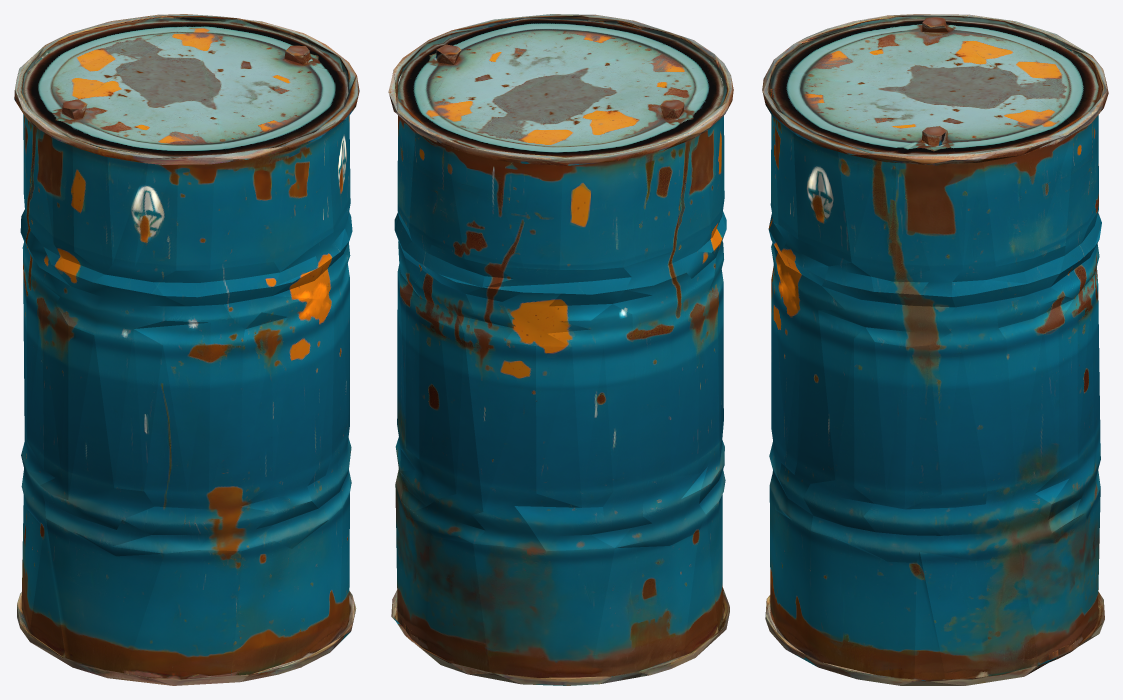
File: oil_barrel_pbr.glb
3 renders of one model, left to right at view 1: azimuth 30°, elevation 25°; view 2: azimuth 150°, elevation 25°; view 3: azimuth 270°, elevation 25°, orthographic.
Size of the model in its own units: 1.1 by 1.9 by 1.1.
1 material, 1 textured.
